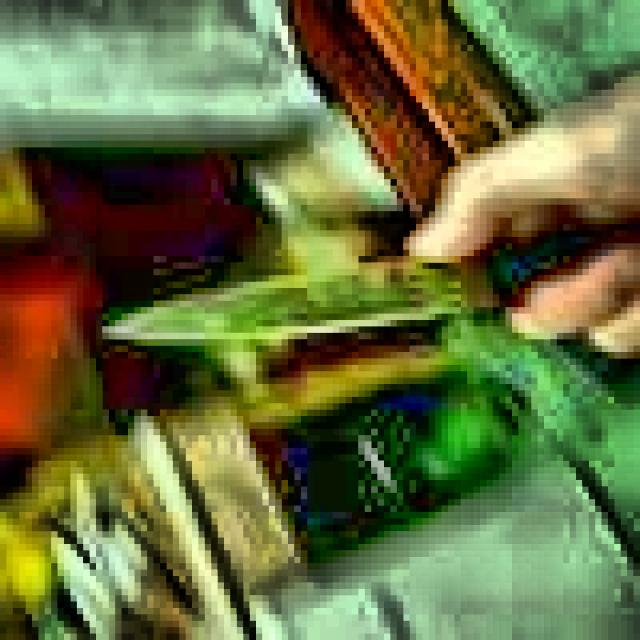knife: (101, 219, 634, 342)
